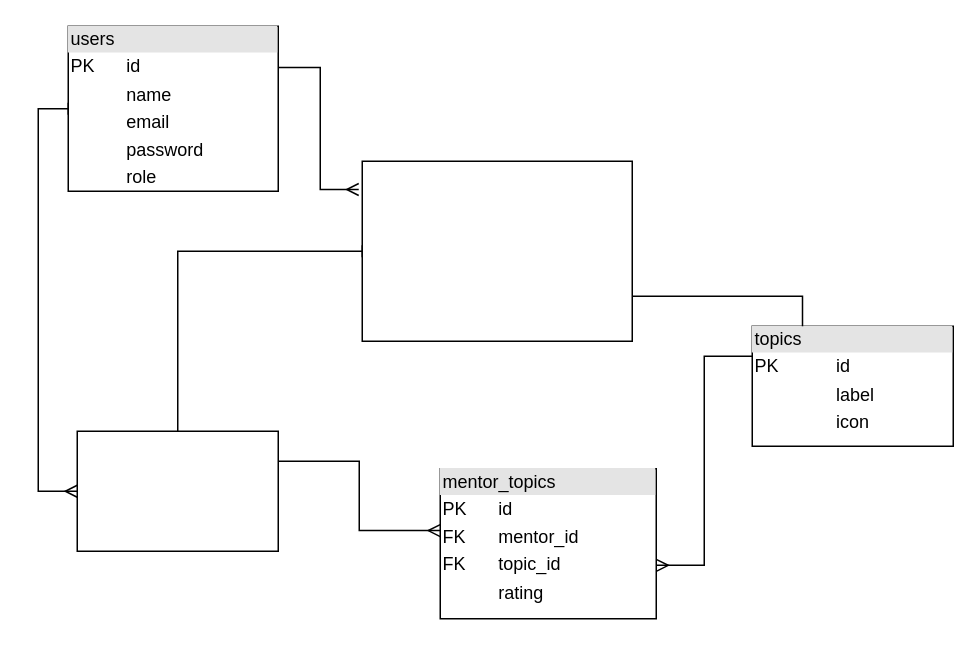
The diagram is 980 pixels wide and 645 high, and some of its shapes have lost their labels. Each missing label, with the centre of its shape:
"mentors PK id FK user_id photo" goes at (177,490).
"reservation PK id FK user_id FK mentor_id FK topic_id date" goes at (496,250).
